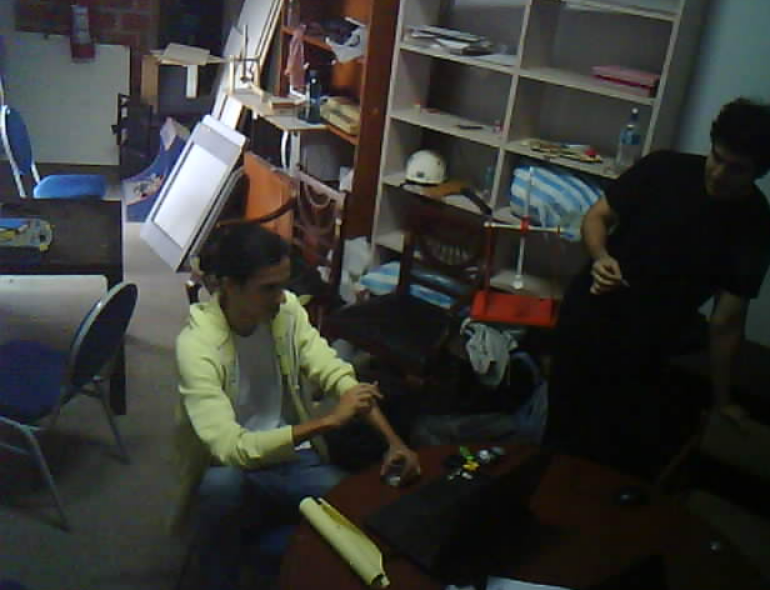person: (149, 193, 422, 590), (536, 92, 770, 477)
